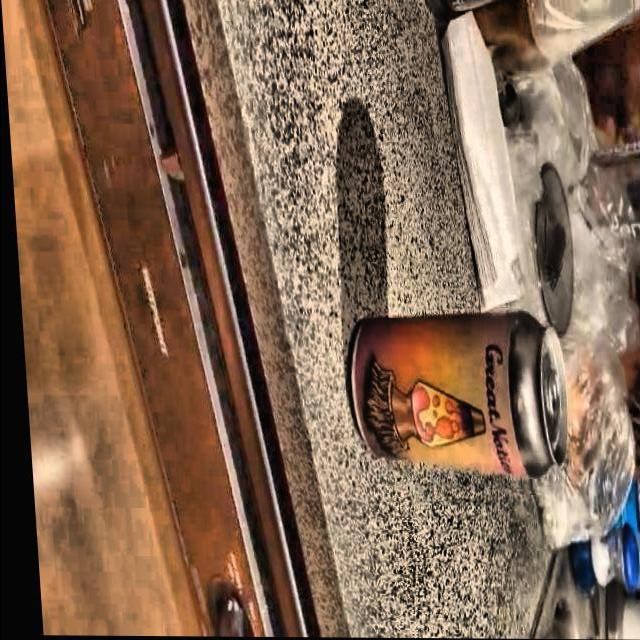litter: (330, 304, 574, 482)
